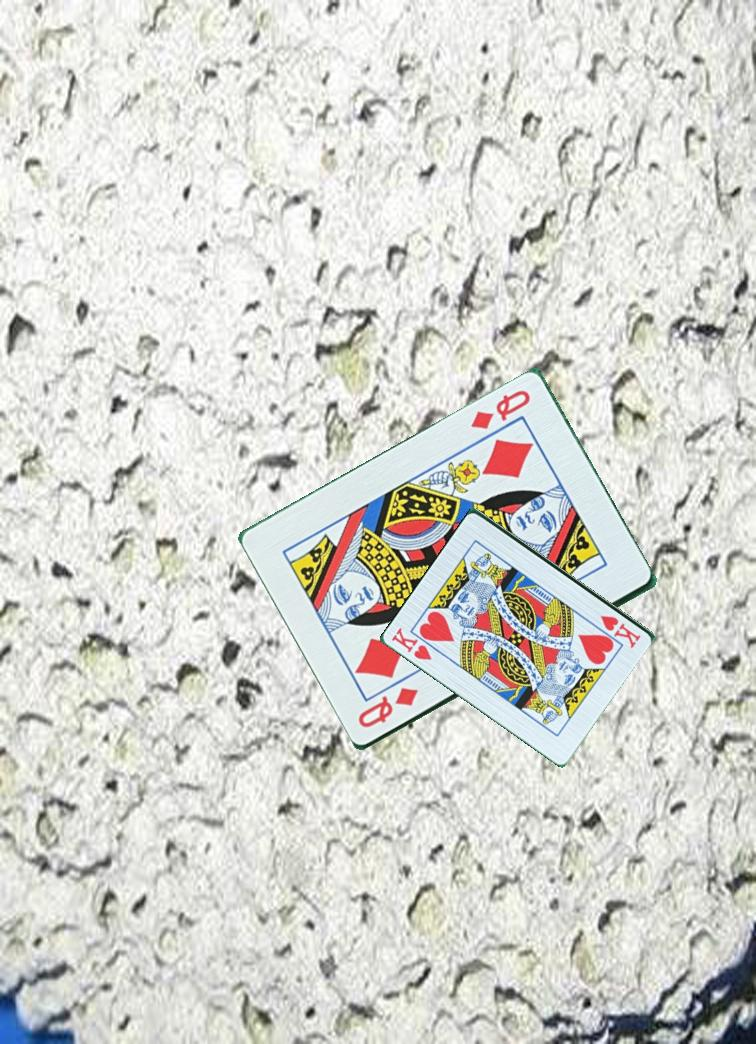kh: (388, 624, 435, 663), (596, 611, 644, 649)
qd: (353, 684, 422, 732), (467, 386, 534, 434)
